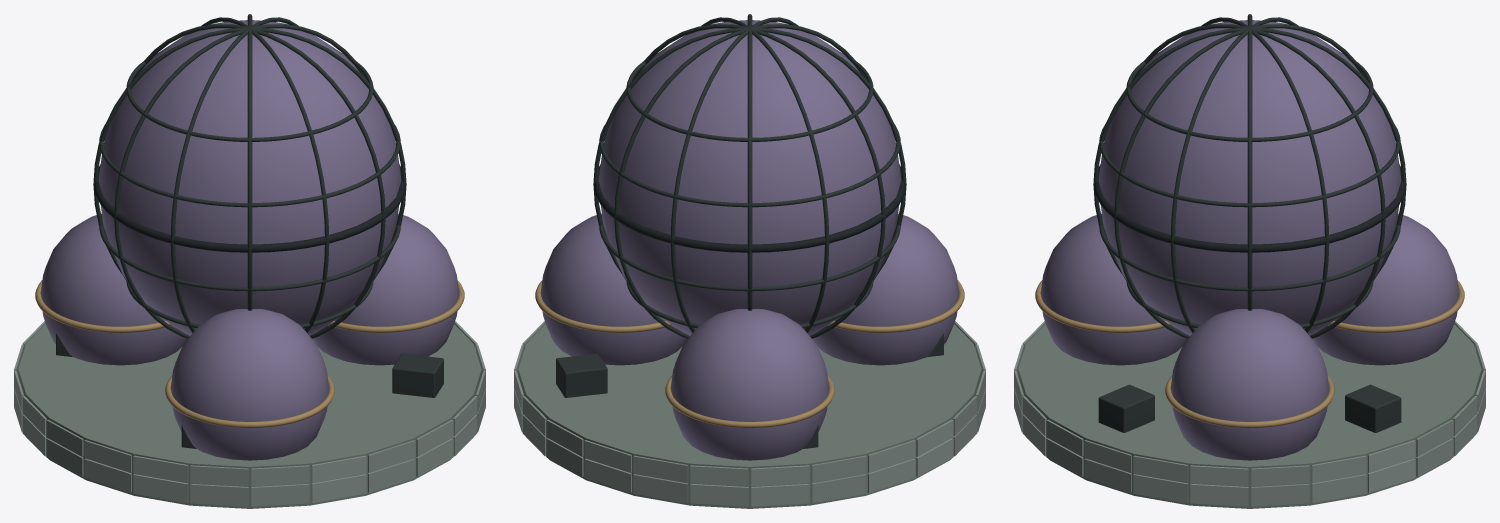
The picture shows the model from 3 angles, left to right: view 1: azimuth 30°, elevation 25°; view 2: azimuth 150°, elevation 25°; view 3: azimuth 270°, elevation 25°; orthographic projection.
Visible parts, largest first — view 1: Central segmented field orb, Foundation drum, Orb foundation armour, Peripheral field orb.002, Peripheral field orb.001, Peripheral field orb, Field orb equator seam, Field regulator cabinet.003, Field orb panel meridian.010, Field orb panel meridian.006, Field orb latitude joint.002, Field orb latitude joint.001 (+12 smaller); view 2: Central segmented field orb, Foundation drum, Orb foundation armour, Peripheral field orb.001, Peripheral field orb.002, Peripheral field orb, Field orb equator seam, Field regulator cabinet, Field orb panel meridian.002, Field orb panel meridian.006, Field orb latitude joint.002, Field orb latitude joint.001 (+12 smaller); view 3: Central segmented field orb, Foundation drum, Orb foundation armour, Peripheral field orb, Peripheral field orb.001, Peripheral field orb.002, Field orb equator seam, Field regulator cabinet, Field regulator cabinet.003, Field orb panel meridian.002, Field orb panel meridian.010, Field orb latitude joint.002 (+13 smaller).
Boxes of the visible parts, left/top/right/bottom form: Central segmented field orb: left=98, top=20, right=401, bottom=335; Foundation drum: left=18, top=324, right=481, bottom=508; Orb foundation armour: left=14, top=321, right=485, bottom=506; Peripheral field orb.002: left=170, top=309, right=329, bottom=460; Peripheral field orb.001: left=40, top=213, right=187, bottom=365; Peripheral field orb: left=312, top=213, right=459, bottom=365; Field orb equator seam: left=93, top=164, right=406, bottom=252; Field regulator cabinet.003: left=392, top=353, right=443, bottom=397; Field orb panel meridian.010: left=251, top=27, right=385, bottom=338; Field orb panel meridian.006: left=114, top=27, right=248, bottom=338; Field orb latitude joint.002: left=99, top=125, right=400, bottom=207; Field orb latitude joint.001: left=99, top=215, right=400, bottom=291; Central segmented field orb: left=598, top=20, right=901, bottom=335; Foundation drum: left=518, top=324, right=981, bottom=508; Orb foundation armour: left=514, top=321, right=985, bottom=506; Peripheral field orb.001: left=670, top=309, right=829, bottom=460; Peripheral field orb.002: left=812, top=213, right=959, bottom=365; Peripheral field orb: left=540, top=213, right=687, bottom=365; Field orb equator seam: left=593, top=164, right=906, bottom=252; Field regulator cabinet: left=556, top=353, right=607, bottom=397; Field orb panel meridian.002: left=614, top=27, right=748, bottom=338; Field orb panel meridian.006: left=751, top=27, right=885, bottom=338; Field orb latitude joint.002: left=599, top=125, right=900, bottom=207; Field orb latitude joint.001: left=599, top=215, right=900, bottom=291; Central segmented field orb: left=1098, top=20, right=1401, bottom=335; Foundation drum: left=1018, top=324, right=1481, bottom=508; Orb foundation armour: left=1014, top=321, right=1485, bottom=506; Peripheral field orb: left=1170, top=309, right=1329, bottom=460; Peripheral field orb.001: left=1312, top=213, right=1459, bottom=365; Peripheral field orb.002: left=1040, top=213, right=1187, bottom=365; Field orb equator seam: left=1093, top=164, right=1406, bottom=252; Field regulator cabinet: left=1345, top=384, right=1401, bottom=432; Field regulator cabinet.003: left=1098, top=384, right=1154, bottom=432; Field orb panel meridian.002: left=1251, top=27, right=1385, bottom=338; Field orb panel meridian.010: left=1114, top=27, right=1248, bottom=338; Field orb latitude joint.002: left=1099, top=125, right=1400, bottom=207.
Size of the model in its own units: 2.55 by 2.28 by 2.55.
